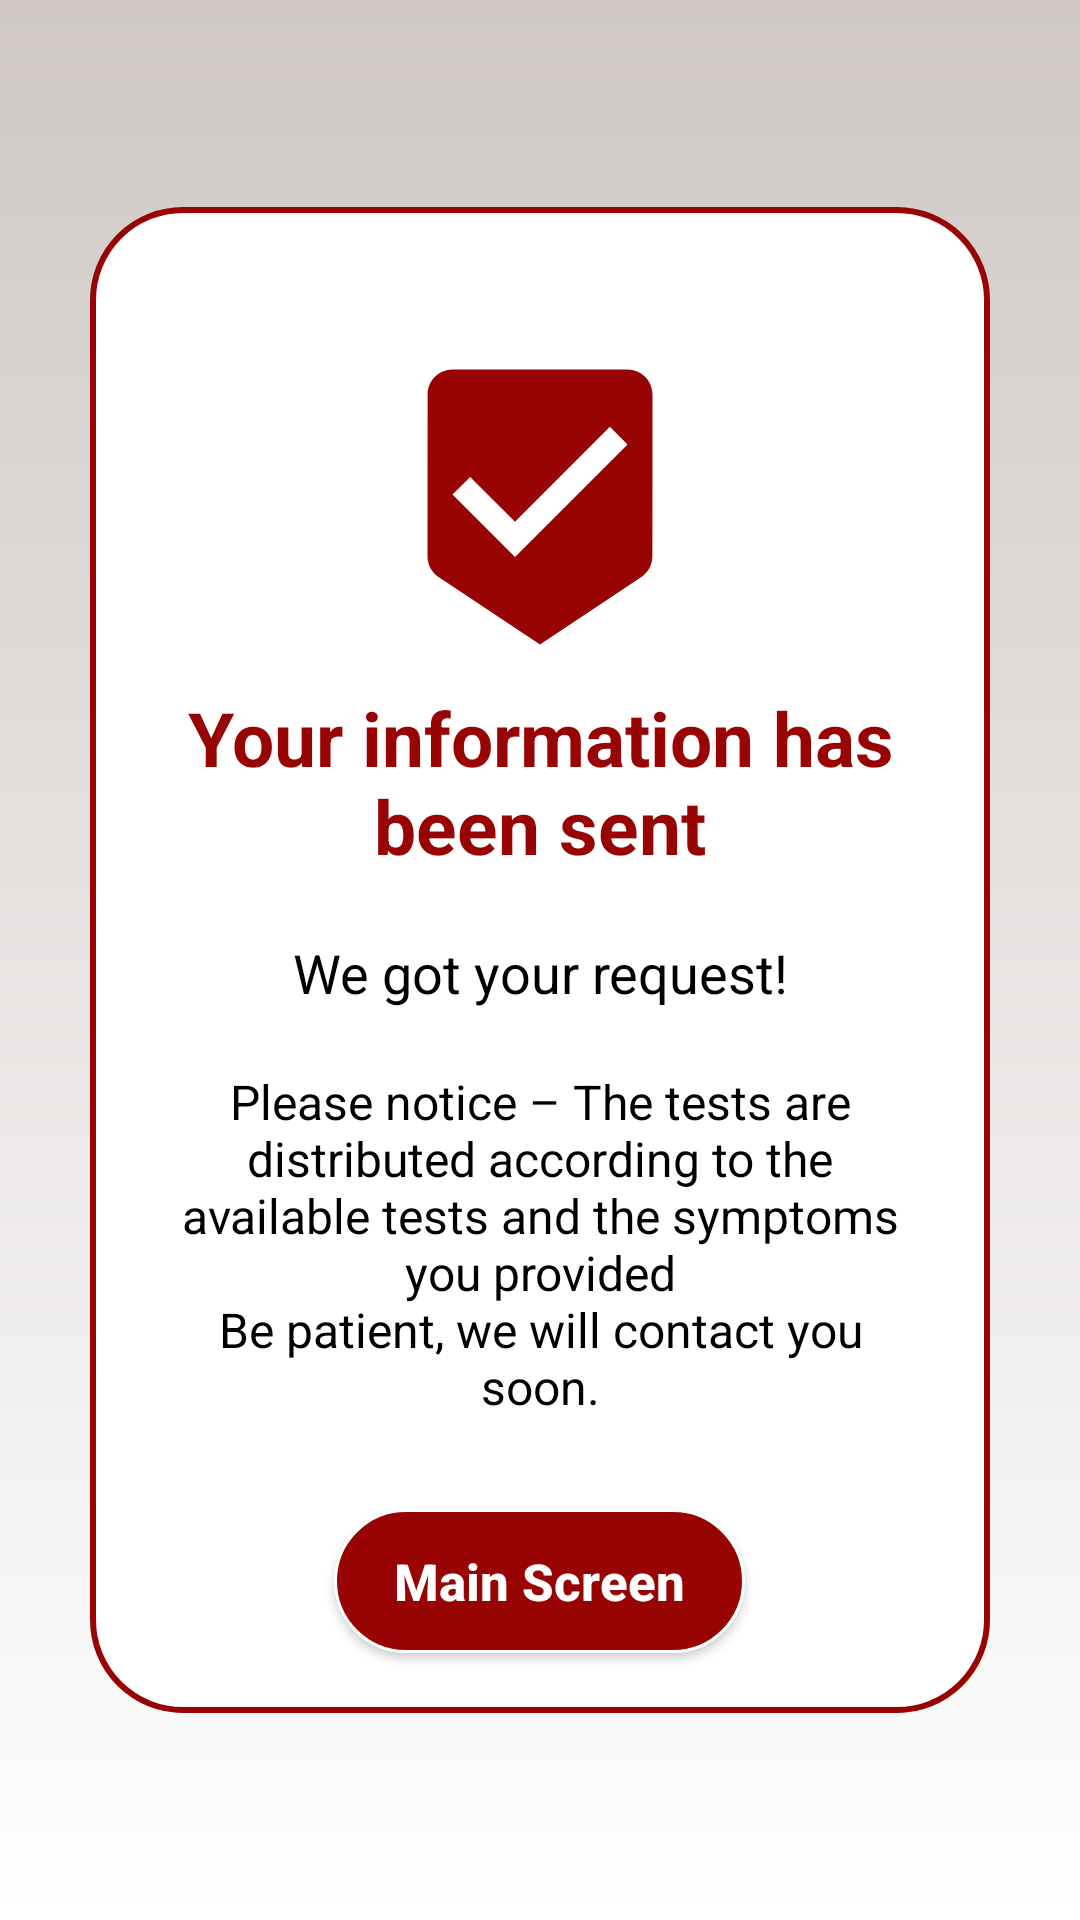

Icons on this 1080 x 1920 Android screen, each with the point to tap as (x=x, y=y):
accept: (x=540, y=507)
